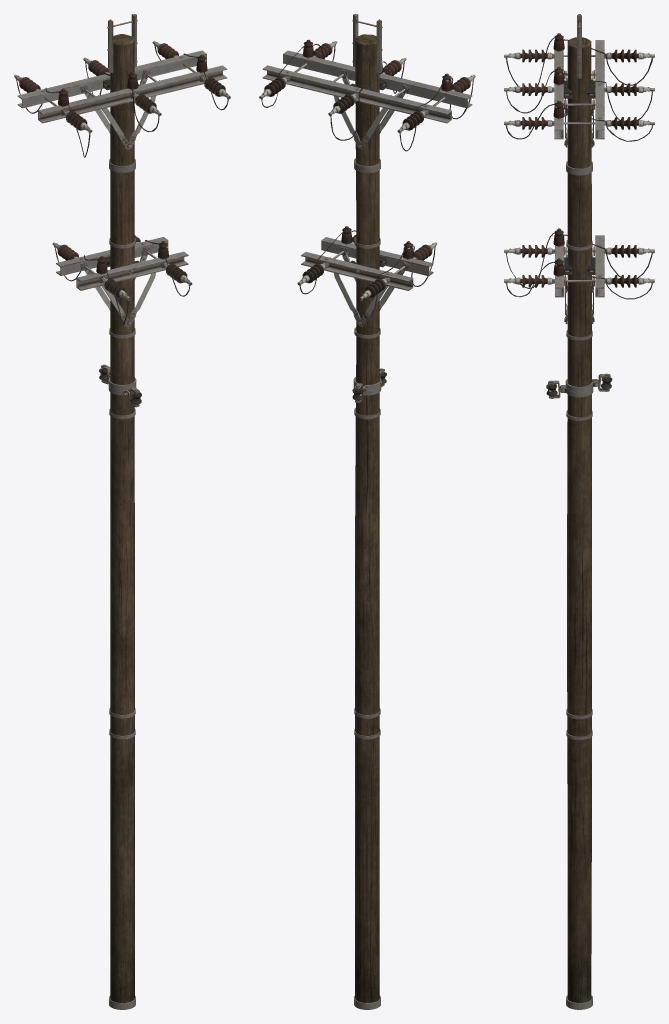
File: modular_electricity_poles.glb
The picture shows the model from 3 angles, left to right: view 1: azimuth 30°, elevation 25°; view 2: azimuth 150°, elevation 25°; view 3: azimuth 270°, elevation 25°; orthographic projection.
Parts seen in each view (by area): view 1: preset_02_pole, preset_02_cap; view 2: preset_02_pole, preset_02_cap; view 3: preset_02_pole, preset_02_cap.
Boxes of the visible parts, <box> form: preset_02_pole: <box>110,34,134,1002</box>; preset_02_cap: <box>14,14,230,1009</box>; preset_02_pole: <box>355,34,379,1002</box>; preset_02_cap: <box>259,14,475,1009</box>; preset_02_pole: <box>567,37,591,1002</box>; preset_02_cap: <box>504,14,654,1009</box>.
Size of the model in its own units: 1.2 by 6.13 by 0.8524.
Materials: 2 (2 with a texture image).
